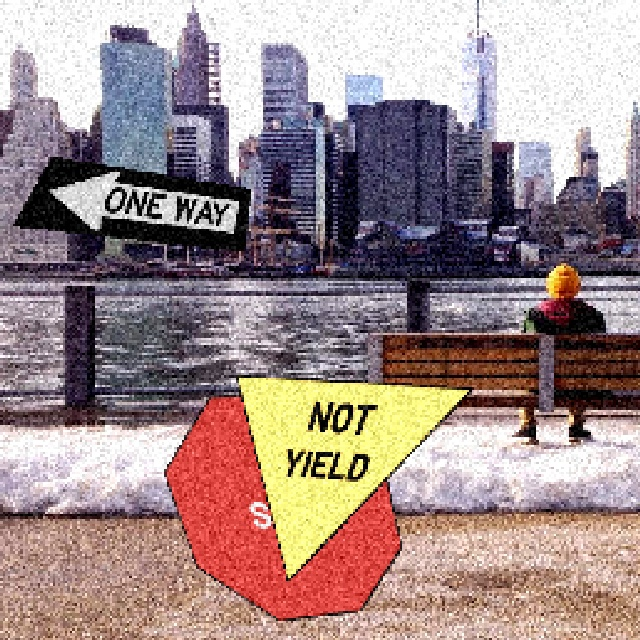NOT_YIELD: (233, 372, 473, 580)
ONE_WAY_ left: (10, 154, 250, 250)
STOP: (161, 391, 401, 620)
